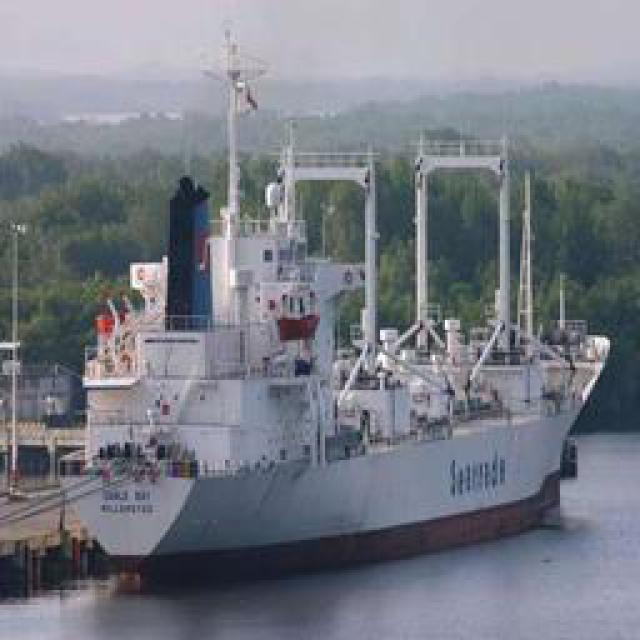Ship: (20, 105, 608, 595)
